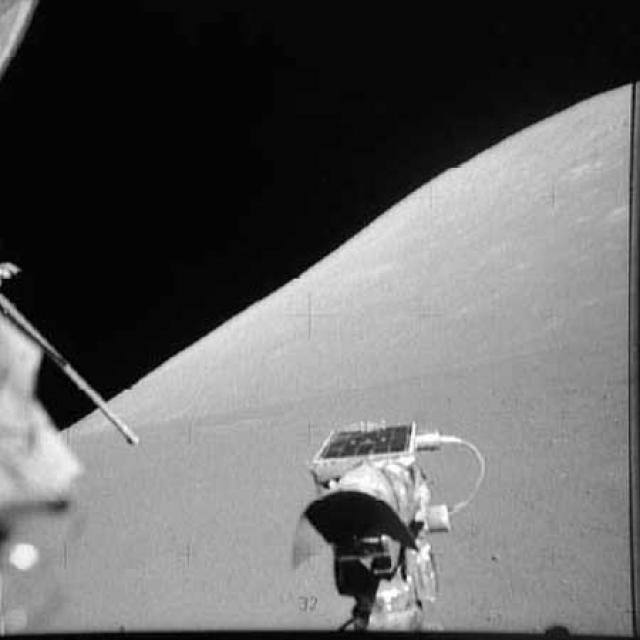artifact: (265, 408, 496, 634), (0, 227, 151, 506)
